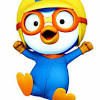Pororo: (13, 1, 94, 100)
